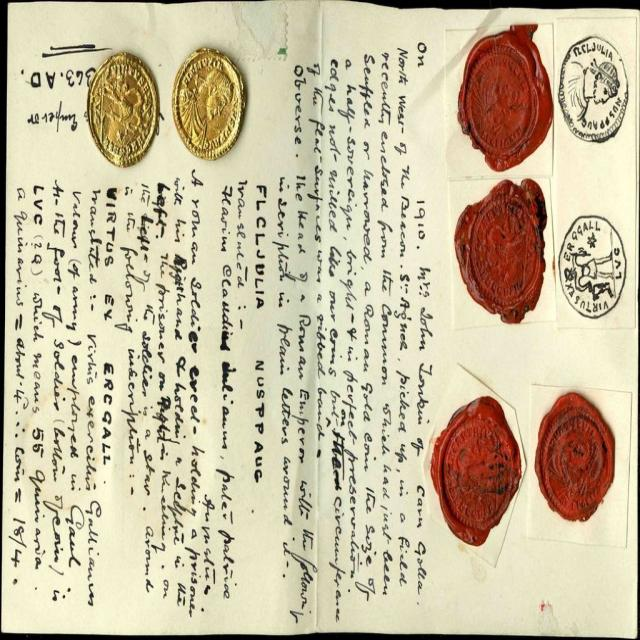Coin: (82, 48, 160, 163), (172, 47, 246, 160)
